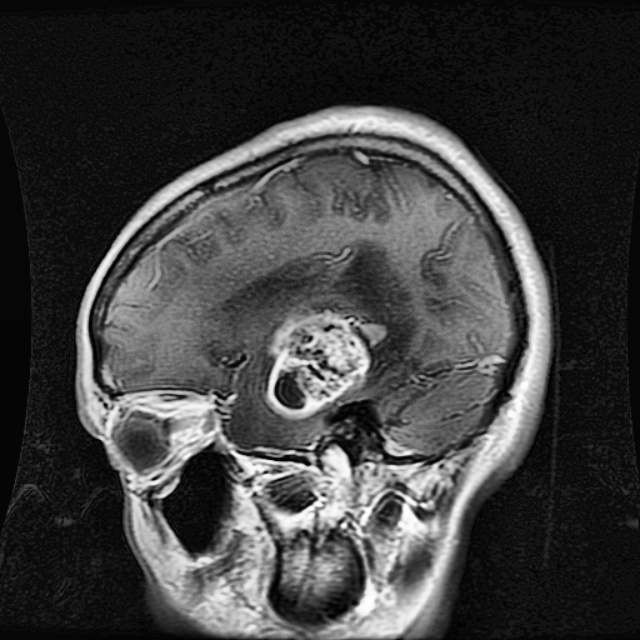Meningioma: (263, 313, 389, 419)
